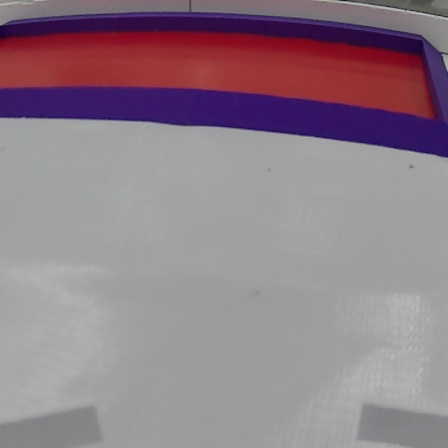red_aim: (0, 14, 448, 169)
